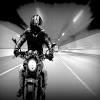helmet: (27, 14, 45, 35)
